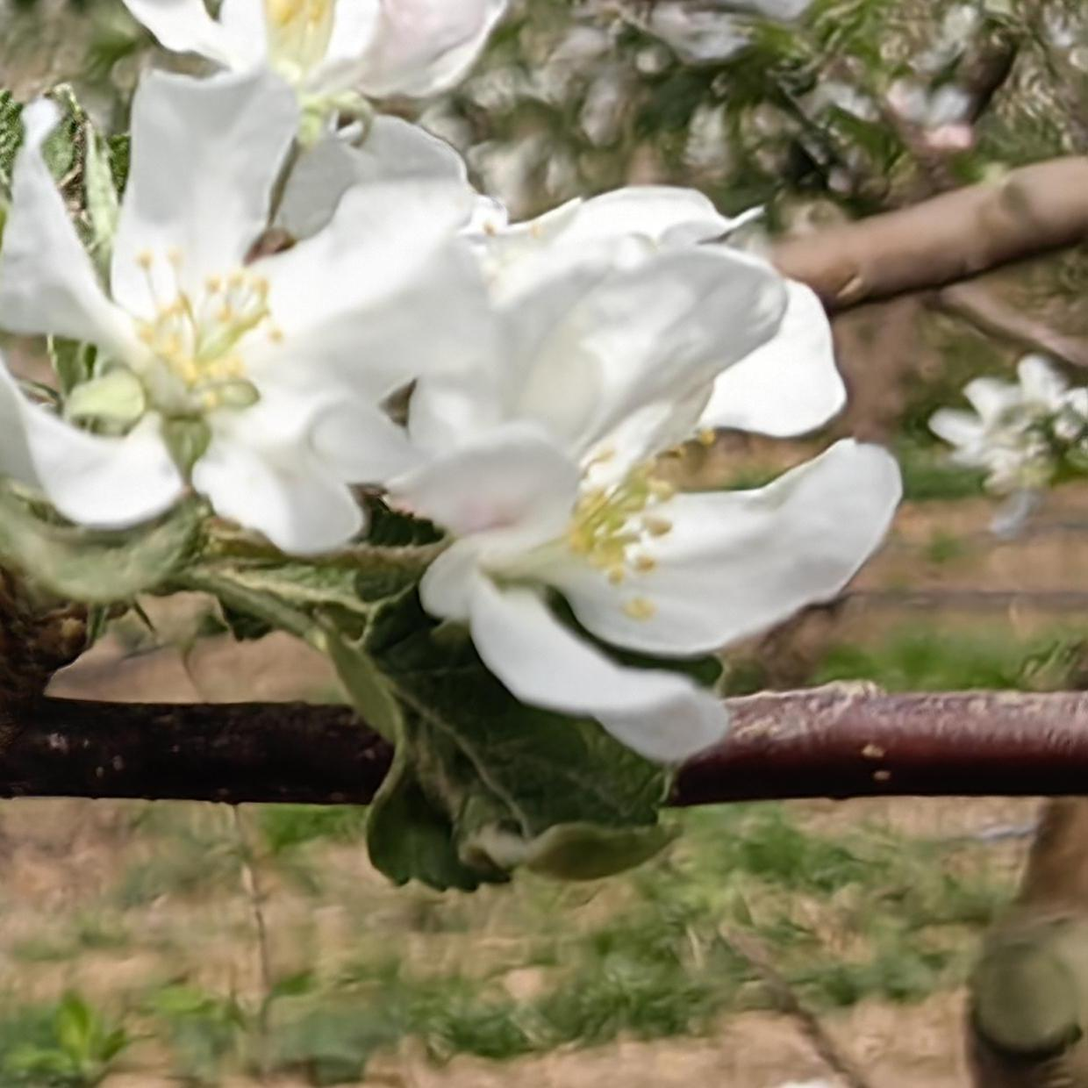apple_flower: (0, 0, 906, 755)
